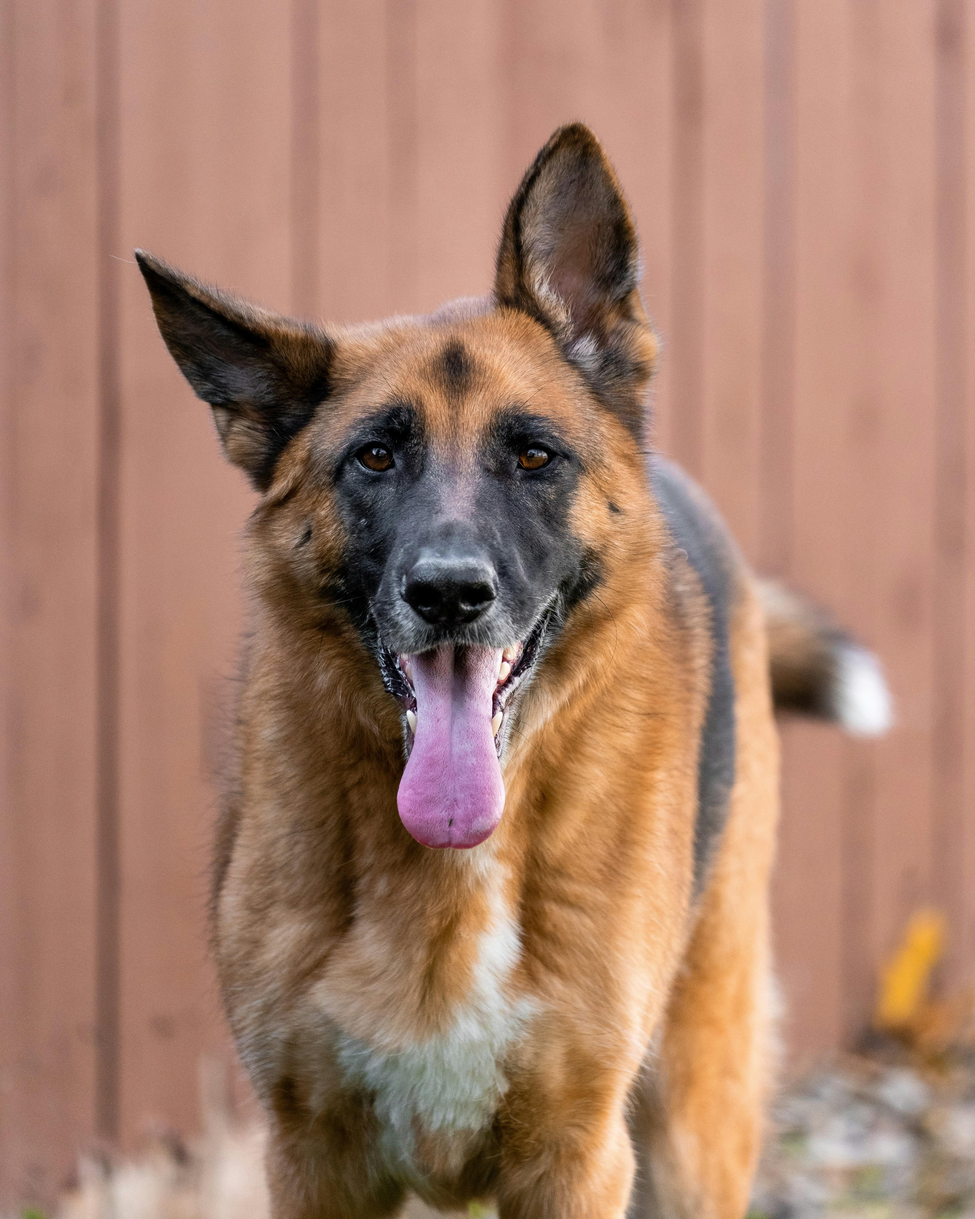german_shepherd: (176, 240, 714, 815)
